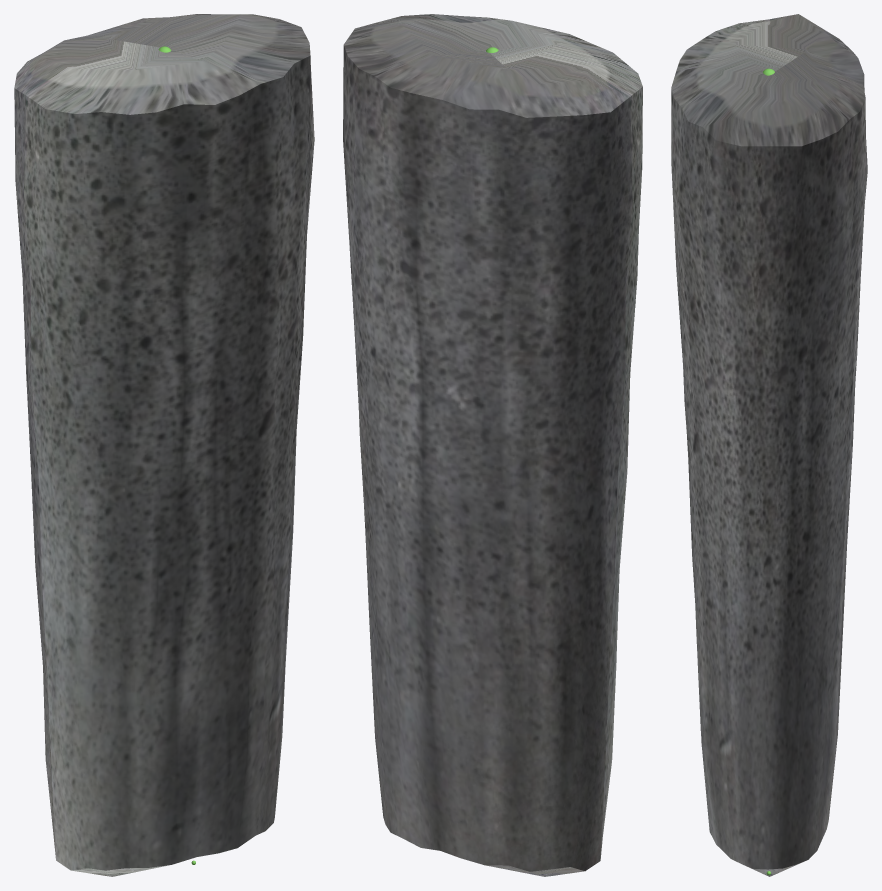
File: columna_eliptica.obj
3 views of the same model, side by side, from view 1: azimuth 30°, elevation 25°; view 2: azimuth 150°, elevation 25°; view 3: azimuth 270°, elevation 25° (orthographic). The views are drawn at different scales.
Visible parts, largest first — view 1: Ellipse001; view 2: Ellipse001; view 3: Ellipse001.
Part boxes in pixels (box(x1,y1,x2,y2)): Ellipse001: box(14, 14, 314, 876); Ellipse001: box(343, 14, 642, 876); Ellipse001: box(671, 14, 867, 876).
Size of the model in its own units: 137 by 388 by 87.95.
2 materials, 1 textured.
